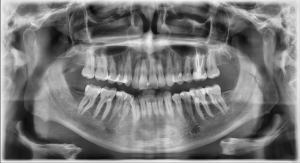canine: (123, 42, 133, 91), (164, 43, 175, 87), (164, 91, 175, 120), (130, 95, 139, 124)
incisor: (148, 48, 160, 95), (139, 50, 151, 90), (132, 50, 143, 91), (156, 49, 165, 90), (145, 94, 153, 124), (140, 93, 147, 124), (158, 91, 164, 124), (152, 95, 158, 122)
molar: (75, 82, 101, 120), (188, 87, 212, 121), (95, 85, 116, 122), (79, 43, 96, 83), (193, 46, 209, 87), (207, 84, 229, 112), (206, 45, 223, 81), (94, 43, 108, 81)
premolar: (115, 42, 129, 88), (179, 91, 197, 123), (109, 92, 125, 124), (120, 91, 134, 127), (180, 46, 192, 84), (171, 47, 182, 86), (107, 48, 119, 83), (171, 91, 183, 124)
